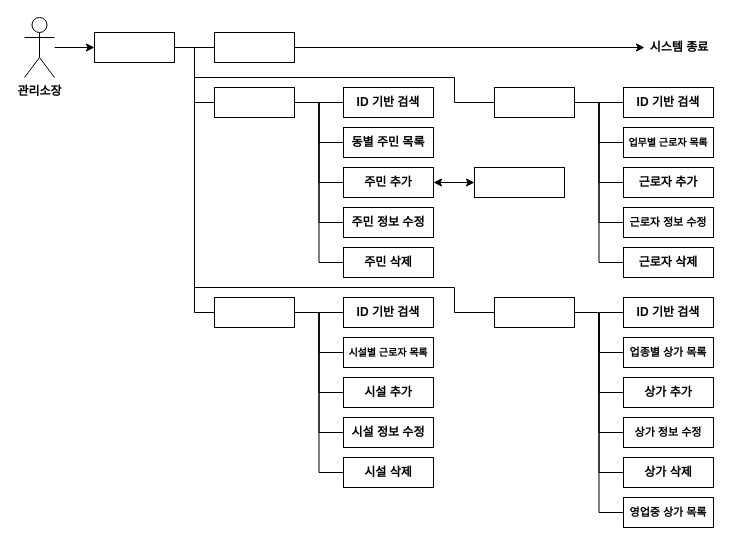
This 731x545 diagram has some shape labels left out. The shapes that lost their labels are listed below. From the top down, each one's centre as x and y in pixels, then its label:
At (x=134, y=47): "항목 선택".
At (x=254, y=47): "종료".
At (x=254, y=102): "주민".
At (x=534, y=102): "근로자".
At (x=519, y=182): "세대주 중복 확인".
At (x=254, y=312): "공용시설".
At (x=534, y=312): "상가".
